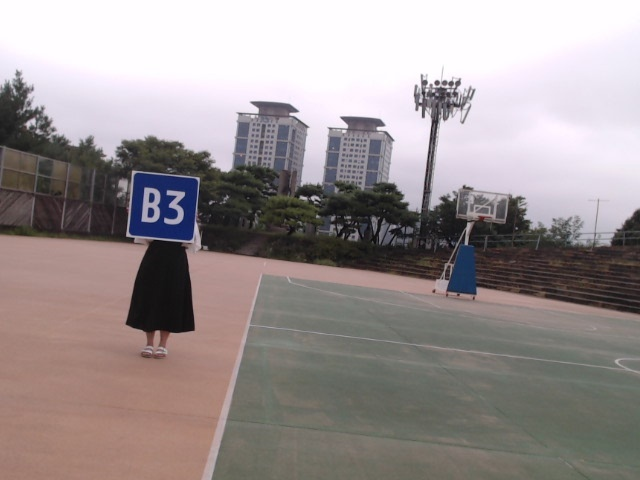delivery_b3: (128, 171, 200, 242)
